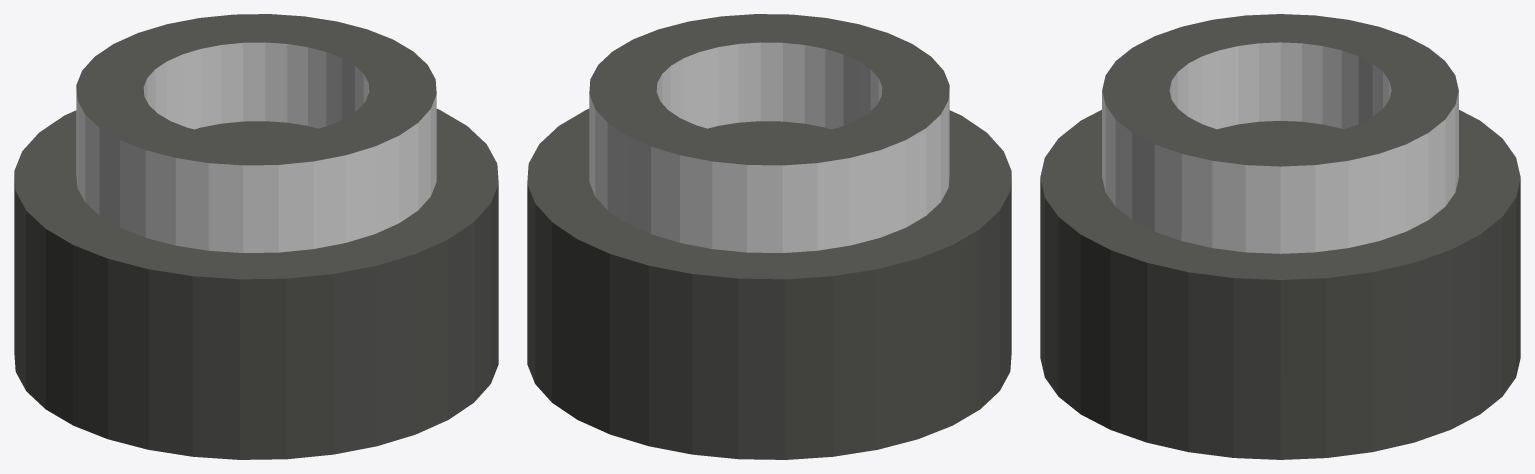
File: Extractor1.fbx
The picture shows the model from 3 angles, left to right: view 1: azimuth 30°, elevation 25°; view 2: azimuth 150°, elevation 25°; view 3: azimuth 270°, elevation 25°; orthographic projection.
Visible parts, largest first — view 1: Extractor; view 2: Extractor; view 3: Extractor.
Boxes of the visible parts, <box> form: Extractor: <box>14,14,498,459</box>; Extractor: <box>527,14,1011,459</box>; Extractor: <box>1040,14,1520,459</box>.
Bounding box in the file's own units: 31.3 × 19.04 × 31.02.
